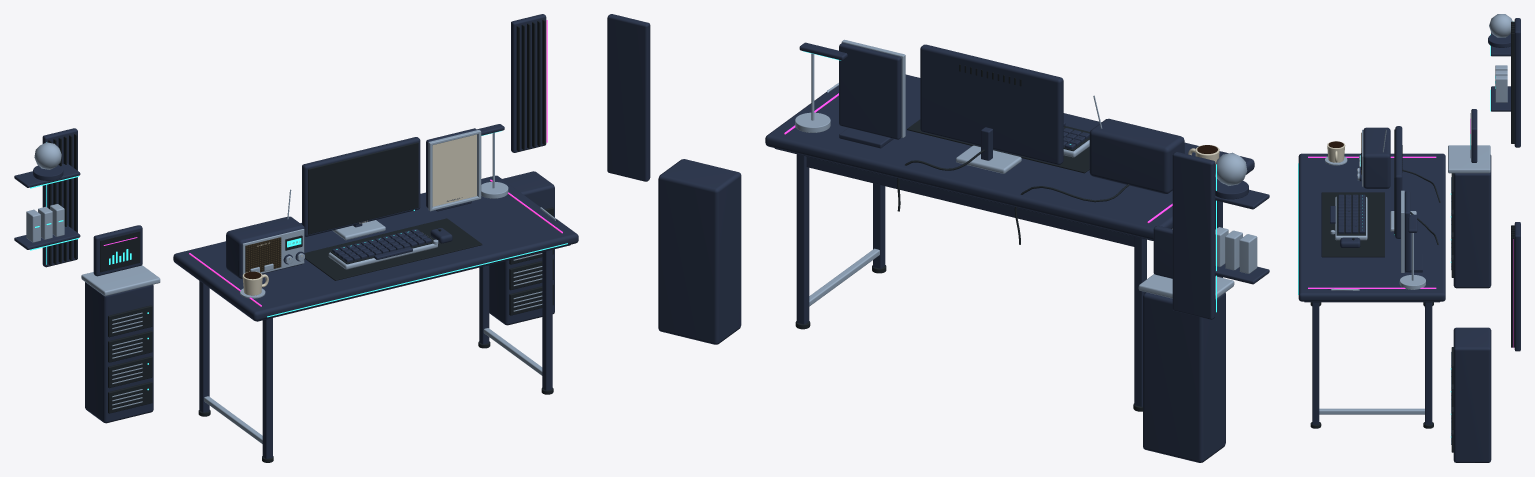
Rendered from desk-neon.glb.
3 renders of one model, left to right at view 1: azimuth 30°, elevation 25°; view 2: azimuth 150°, elevation 25°; view 3: azimuth 270°, elevation 25°, orthographic. The views are drawn at different scales.
Parts seen in each view (by area): view 1: Scenery__finish, Desk__finish, Computer__finish, PhotoDisplay__finish, Radio__finish, NeonKey__finish, Lamp__finish, Accessories__finish; view 2: Scenery__finish, Desk__finish, Computer__finish, PhotoDisplay__finish, Radio__finish, Lamp__finish, Accessories__finish, NeonKey__finish; view 3: Desk__finish, Scenery__finish, Radio__finish, NeonKey__finish, Computer__finish, PhotoDisplay__finish, Accessories__finish, Lamp__finish.
Boxes of the visible parts, bbox=[...] form: Scenery__finish: bbox=[14, 14, 554, 423]; Desk__finish: bbox=[173, 175, 578, 462]; Computer__finish: bbox=[302, 137, 420, 240]; PhotoDisplay__finish: bbox=[426, 128, 481, 211]; Radio__finish: bbox=[226, 189, 304, 278]; NeonKey__finish: bbox=[328, 227, 452, 269]; Lamp__finish: bbox=[477, 124, 508, 198]; Accessories__finish: bbox=[240, 207, 557, 298]; Scenery__finish: bbox=[607, 14, 1269, 462]; Desk__finish: bbox=[765, 74, 1254, 411]; Computer__finish: bbox=[920, 44, 1063, 173]; PhotoDisplay__finish: bbox=[839, 39, 905, 148]; Radio__finish: bbox=[1089, 95, 1184, 193]; Lamp__finish: bbox=[795, 42, 847, 132]; Accessories__finish: bbox=[827, 83, 1219, 244]; NeonKey__finish: bbox=[1063, 122, 1089, 157]; Desk__finish: bbox=[1298, 153, 1445, 428]; Scenery__finish: bbox=[1448, 14, 1520, 462]; Radio__finish: bbox=[1357, 127, 1390, 188]; NeonKey__finish: bbox=[1330, 194, 1367, 247]; Computer__finish: bbox=[1390, 126, 1416, 238]; PhotoDisplay__finish: bbox=[1401, 190, 1422, 272]; Accessories__finish: bbox=[1325, 141, 1440, 290]; Lamp__finish: bbox=[1399, 214, 1425, 289].
Size of the model in its own units: 17.52 by 8.46 by 7.12.
8 materials, 1 textured.
